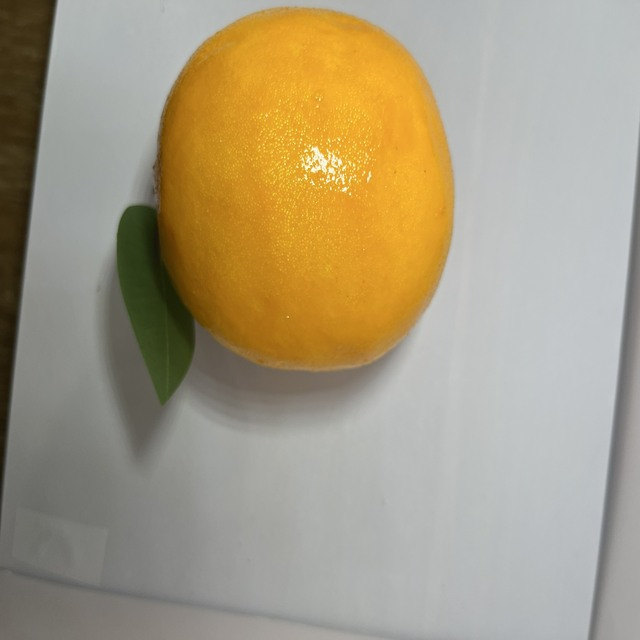Cam vang: (140, 0, 466, 375)
